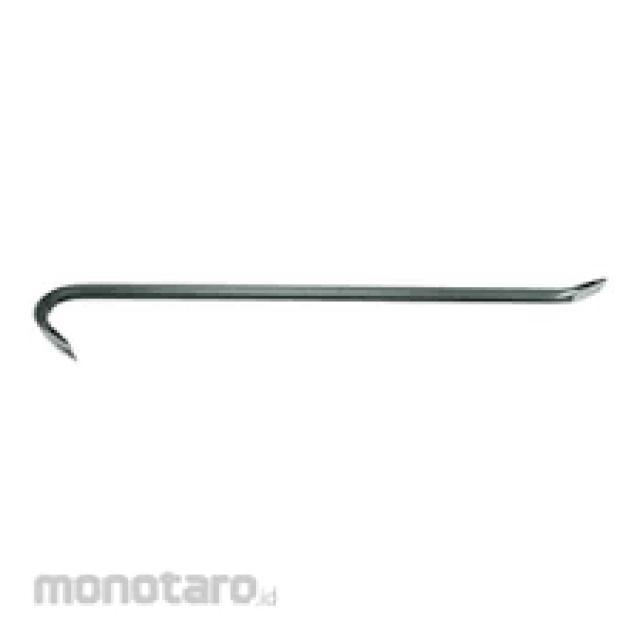Linggis: (27, 268, 613, 366)
